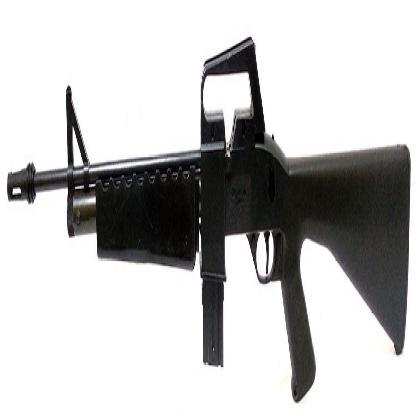gun: (4, 6, 411, 389)
